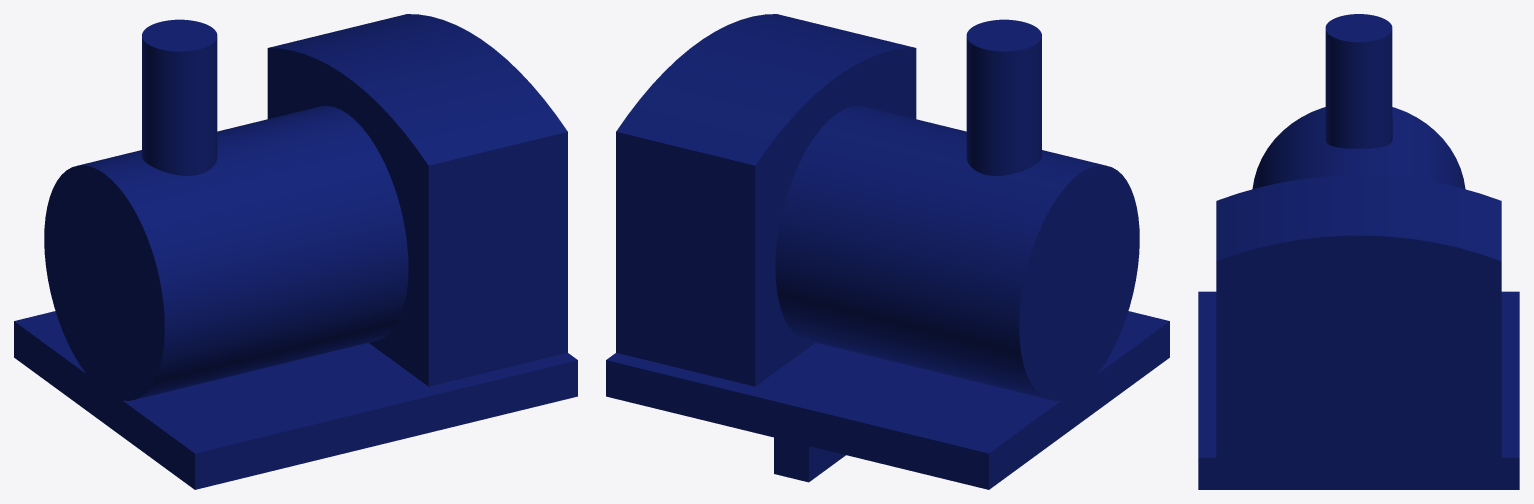
File: toy-head.glb
3 renders of one model, left to right at view 1: azimuth 30°, elevation 25°; view 2: azimuth 150°, elevation 25°; view 3: azimuth 270°, elevation 25°, orthographic. The views are drawn at different scales.
Visible parts, largest first — view 1: Part 1; view 2: Part 1; view 3: Part 1.
Part boxes in pixels (x1=…): Part 1: x1=14, y1=14, x2=577, y2=489; Part 1: x1=606, y1=14, x2=1169, y2=489; Part 1: x1=1198, y1=14, x2=1519, y2=489.
Size of the model in its own units: 0.055 by 0.0557 by 0.045.
